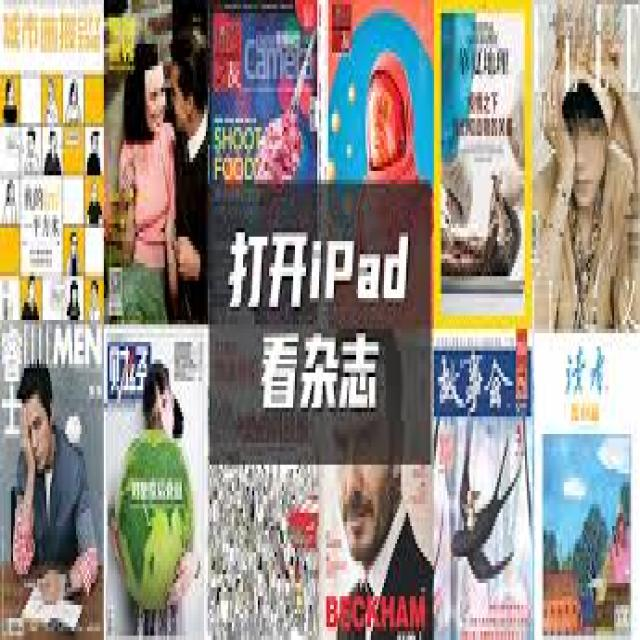paper: (2, 7, 634, 638)
